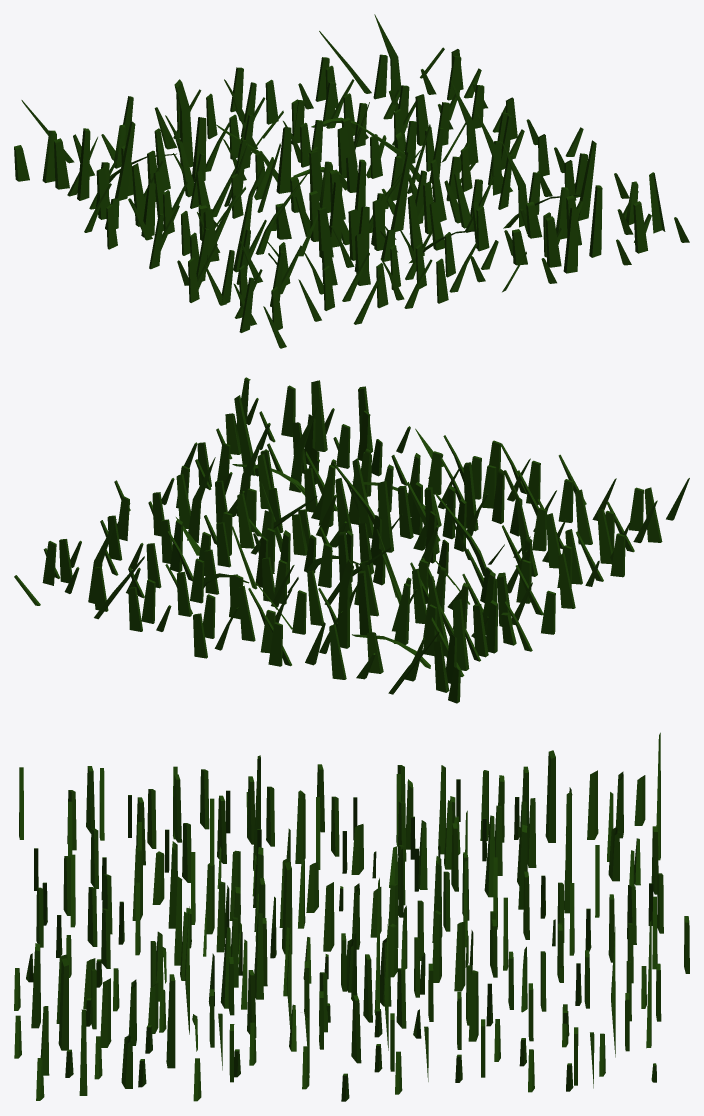
File: shortgrass_wildlowpoly.fbx
The picture shows the model from 3 angles, top to bottom: view 1: azimuth 30°, elevation 25°; view 2: azimuth 150°, elevation 25°; view 3: azimuth 270°, elevation 25°; orthographic projection. The views are drawn at different scales.
Parts seen in each view (by area): view 1: short_grass_wild; view 2: short_grass_wild; view 3: short_grass_wild.
Part boxes in pixels (left/top/right/bottom): short_grass_wild: left=14, top=14, right=689, bottom=348; short_grass_wild: left=14, top=377, right=689, bottom=703; short_grass_wild: left=14, top=732, right=689, bottom=1101.
Bounding box in the file's own units: 0.8147 × 0.1693 × 0.8021.
